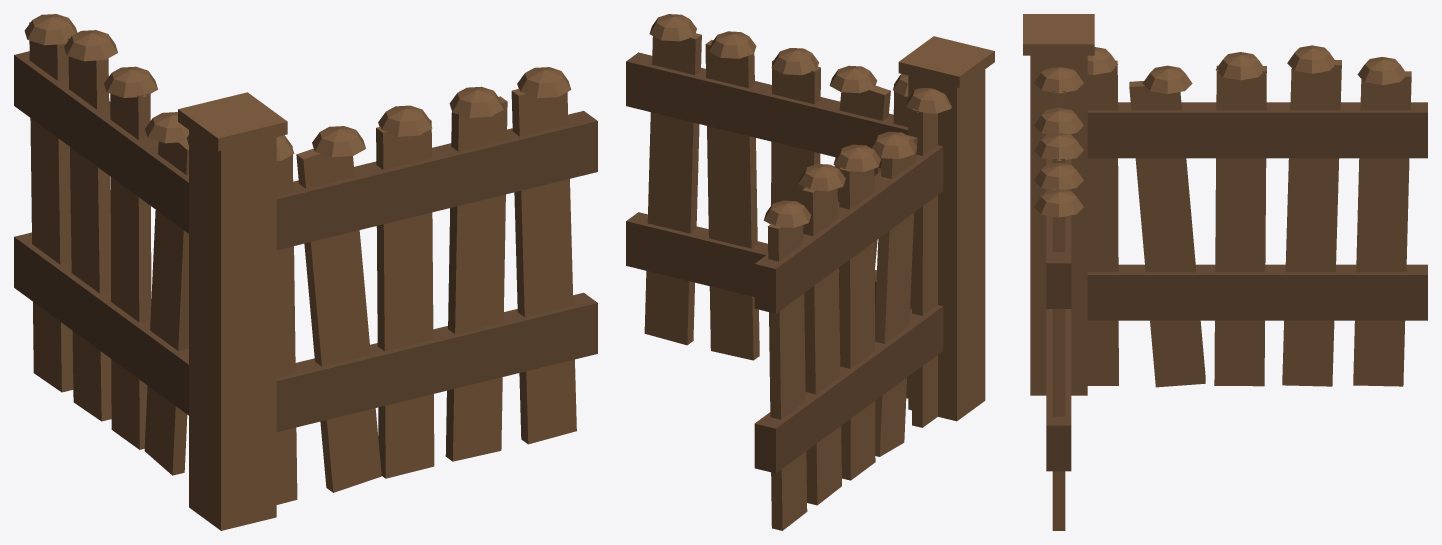
Rendered from SM_Fence_TavernPicket_02_Corner.glb.
The picture shows the model from 3 angles, left to right: view 1: azimuth 30°, elevation 25°; view 2: azimuth 150°, elevation 25°; view 3: azimuth 270°, elevation 25°; orthographic projection. The views are drawn at different scales.
Visible parts, largest first — view 1: SM_Fence_TavernPicket_02_Corner_Post, SM_Fence_TavernPicket_02_Corner_X_RailTop, SM_Fence_TavernPicket_02_Corner_X_RailBot, SM_Fence_TavernPicket_02_Corner_X_Pk4, SM_Fence_TavernPicket_02_Corner_X_Pk3, SM_Fence_TavernPicket_02_Corner_X_Pk2, SM_Fence_TavernPicket_02_Corner_X_Pk1, SM_Fence_TavernPicket_02_Corner_Y_RailTop, SM_Fence_TavernPicket_02_Corner_Y_RailBot, SM_Fence_TavernPicket_02_Corner_Y_Pk3, SM_Fence_TavernPicket_02_Corner_Y_Pk2, SM_Fence_TavernPicket_02_Corner_Y_Pk4 (+11 smaller); view 2: SM_Fence_TavernPicket_02_Corner_Post, SM_Fence_TavernPicket_02_Corner_X_RailTop, SM_Fence_TavernPicket_02_Corner_X_Pk4, SM_Fence_TavernPicket_02_Corner_X_Pk3, SM_Fence_TavernPicket_02_Corner_Y_RailTop, SM_Fence_TavernPicket_02_Corner_Y_RailBot, SM_Fence_TavernPicket_02_Corner_Y_Pk3, SM_Fence_TavernPicket_02_Corner_Y_Pk4, SM_Fence_TavernPicket_02_Corner_Y_Pk2, SM_Fence_TavernPicket_02_Corner_X_RailBot, SM_Fence_TavernPicket_02_Corner_Y_Pk1, SM_Fence_TavernPicket_02_Corner_Y_Pk0 (+13 smaller); view 3: SM_Fence_TavernPicket_02_Corner_Y_RailTop, SM_Fence_TavernPicket_02_Corner_Y_RailBot, SM_Fence_TavernPicket_02_Corner_Y_Pk3, SM_Fence_TavernPicket_02_Corner_Y_Pk2, SM_Fence_TavernPicket_02_Corner_Y_Pk4, SM_Fence_TavernPicket_02_Corner_Y_Pk1, SM_Fence_TavernPicket_02_Corner_Post, SM_Fence_TavernPicket_02_Corner_Y_Pk0, SM_Fence_TavernPicket_02_Corner_Post_Cap, SM_Fence_TavernPicket_02_Corner_X_RailBot, SM_Fence_TavernPicket_02_Corner_X_Pk4, SM_Fence_TavernPicket_02_Corner_X_RailTop (+10 smaller).
Boxes of the visible parts, box(x1,y1,x2,y2) form: SM_Fence_TavernPicket_02_Corner_Post: box(189, 130, 276, 530); SM_Fence_TavernPicket_02_Corner_X_RailTop: box(276, 111, 597, 250); SM_Fence_TavernPicket_02_Corner_X_RailBot: box(276, 292, 597, 431); SM_Fence_TavernPicket_02_Corner_X_Pk4: box(511, 88, 576, 444); SM_Fence_TavernPicket_02_Corner_X_Pk3: box(445, 96, 507, 461); SM_Fence_TavernPicket_02_Corner_X_Pk2: box(376, 119, 434, 478); SM_Fence_TavernPicket_02_Corner_X_Pk1: box(296, 148, 381, 492); SM_Fence_TavernPicket_02_Corner_Y_RailTop: box(14, 51, 188, 233); SM_Fence_TavernPicket_02_Corner_Y_RailBot: box(14, 232, 188, 415); SM_Fence_TavernPicket_02_Corner_Y_Pk3: box(68, 38, 111, 421); SM_Fence_TavernPicket_02_Corner_Y_Pk2: box(110, 92, 151, 449); SM_Fence_TavernPicket_02_Corner_Y_Pk4: box(29, 22, 73, 392); SM_Fence_TavernPicket_02_Corner_Post: box(908, 69, 985, 421); SM_Fence_TavernPicket_02_Corner_X_RailTop: box(626, 52, 908, 168); SM_Fence_TavernPicket_02_Corner_X_Pk4: box(644, 33, 701, 345); SM_Fence_TavernPicket_02_Corner_X_Pk3: box(705, 40, 759, 360); SM_Fence_TavernPicket_02_Corner_Y_RailTop: box(754, 145, 943, 313); SM_Fence_TavernPicket_02_Corner_Y_RailBot: box(754, 305, 943, 473); SM_Fence_TavernPicket_02_Corner_Y_Pk3: box(802, 187, 841, 505); SM_Fence_TavernPicket_02_Corner_Y_Pk4: box(768, 223, 807, 530); SM_Fence_TavernPicket_02_Corner_Y_Pk2: box(839, 167, 875, 480); SM_Fence_TavernPicket_02_Corner_X_RailBot: box(626, 212, 876, 312); SM_Fence_TavernPicket_02_Corner_Y_Pk1: box(875, 135, 917, 456); SM_Fence_TavernPicket_02_Corner_Y_Pk0: box(912, 109, 937, 427); SM_Fence_TavernPicket_02_Corner_Y_RailTop: box(1087, 102, 1427, 158); SM_Fence_TavernPicket_02_Corner_Y_RailBot: box(1087, 264, 1427, 320); SM_Fence_TavernPicket_02_Corner_Y_Pk3: box(1282, 60, 1341, 386); SM_Fence_TavernPicket_02_Corner_Y_Pk2: box(1214, 65, 1266, 386); SM_Fence_TavernPicket_02_Corner_Y_Pk4: box(1353, 71, 1411, 386); SM_Fence_TavernPicket_02_Corner_Y_Pk1: box(1129, 81, 1205, 387); SM_Fence_TavernPicket_02_Corner_Post: box(1030, 55, 1087, 395); SM_Fence_TavernPicket_02_Corner_Y_Pk0: box(1087, 60, 1118, 385); SM_Fence_TavernPicket_02_Corner_Post_Cap: box(1023, 14, 1094, 55); SM_Fence_TavernPicket_02_Corner_X_RailBot: box(1046, 309, 1071, 471); SM_Fence_TavernPicket_02_Corner_X_Pk4: box(1052, 216, 1065, 530); SM_Fence_TavernPicket_02_Corner_X_RailTop: box(1046, 134, 1071, 308).
Size of the model in its own units: 1.13 by 1.1 by 1.13.
